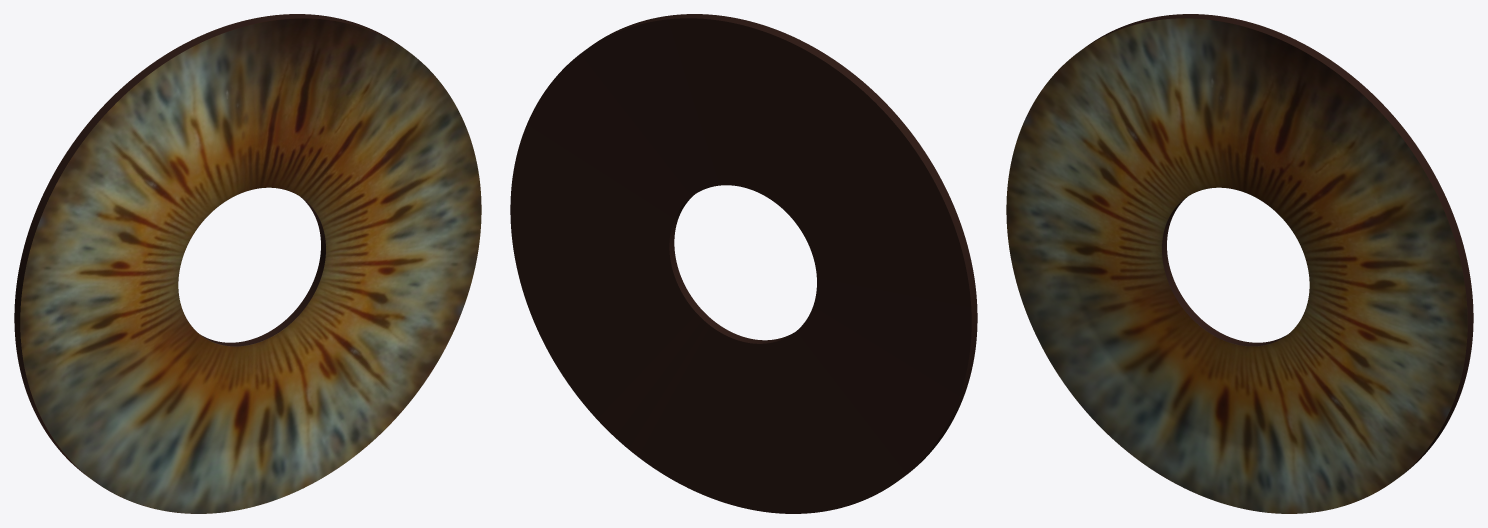
The model's file is iris.glb.
3 renders of one model, left to right at view 1: azimuth 30°, elevation 25°; view 2: azimuth 150°, elevation 25°; view 3: azimuth 330°, elevation 25°, orthographic.
Visible parts, largest first — view 1: iris; view 2: iris; view 3: iris.
Boxes of the visible parts, box(x1,y1,x2,y2) form: iris: box(14, 14, 481, 513); iris: box(510, 14, 977, 513); iris: box(1006, 14, 1473, 513).
Bounding box in the file's own units: 0.5435 × 0.5435 × 0.0188.
Materials: 2 (1 with a texture image).
